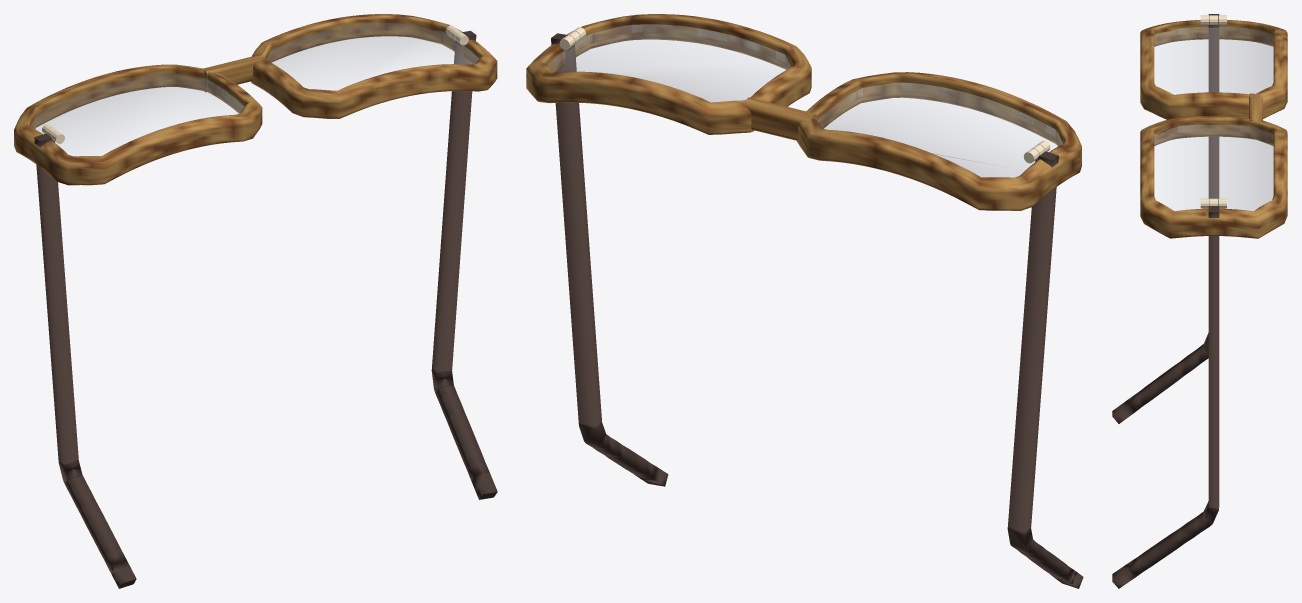
File: rect-tortoise.glb
3 views of the same model, side by side, from view 1: azimuth 30°, elevation 25°; view 2: azimuth 150°, elevation 25°; view 3: azimuth 270°, elevation 25° (orthographic). The views are drawn at different scales.
Visible parts, largest first — view 1: MEL_eyewear_Frame, MEL_eyewear_LensL, MEL_eyewear_TempleR, MEL_eyewear_TempleL, MEL_eyewear_LensR; view 2: MEL_eyewear_Frame, MEL_eyewear_LensL, MEL_eyewear_LensR, MEL_eyewear_TempleL, MEL_eyewear_TempleR; view 3: MEL_eyewear_Frame, MEL_eyewear_LensR, MEL_eyewear_LensL, MEL_eyewear_TempleL, MEL_eyewear_TempleR.
Part boxes in pixels (x1,y1,x2,y2): MEL_eyewear_Frame: [14, 14, 497, 185]; MEL_eyewear_LensL: [31, 73, 244, 155]; MEL_eyewear_TempleR: [34, 133, 136, 588]; MEL_eyewear_TempleL: [431, 30, 497, 499]; MEL_eyewear_LensR: [266, 23, 478, 90]; MEL_eyewear_Frame: [526, 14, 1081, 210]; MEL_eyewear_LensL: [817, 82, 1062, 177]; MEL_eyewear_LensR: [547, 24, 791, 102]; MEL_eyewear_TempleL: [551, 33, 668, 486]; MEL_eyewear_TempleR: [1007, 151, 1083, 588]; MEL_eyewear_Frame: [1140, 15, 1287, 238]; MEL_eyewear_LensR: [1154, 124, 1273, 210]; MEL_eyewear_LensL: [1154, 27, 1273, 94]; MEL_eyewear_TempleL: [1112, 204, 1219, 588]; MEL_eyewear_TempleR: [1112, 14, 1219, 423].
Size of the model in its own units: 0.134 by 0.1267 by 0.0499.
